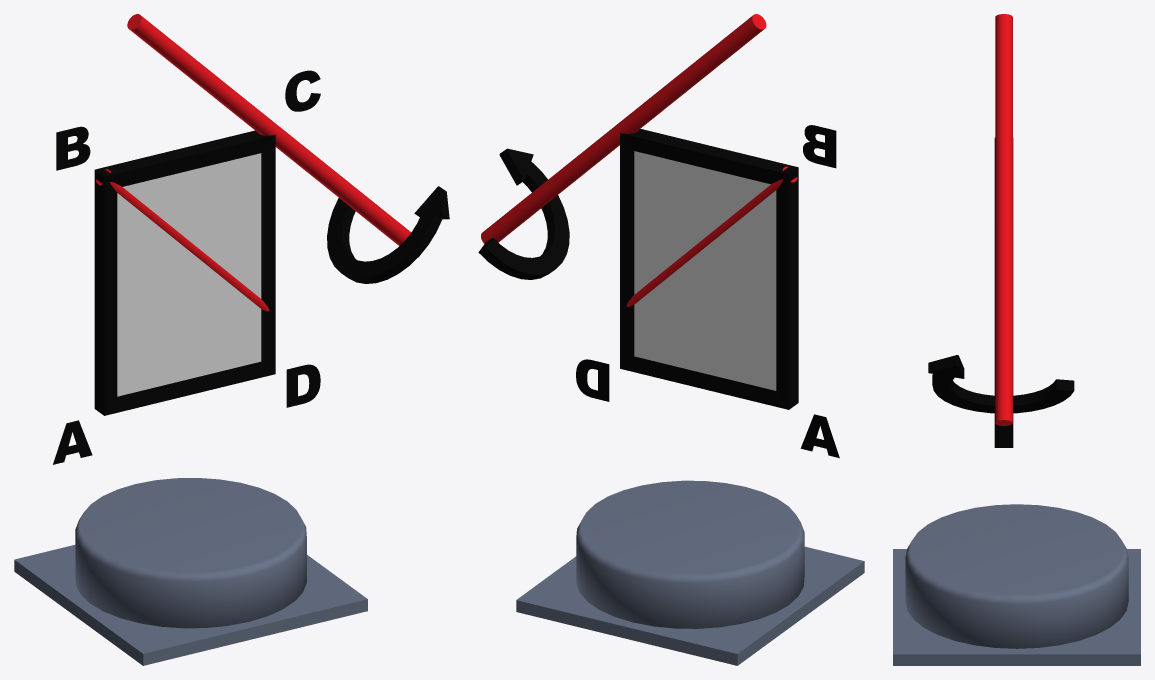
3 renders of one model, left to right at view 1: azimuth 30°, elevation 25°; view 2: azimuth 150°, elevation 25°; view 3: azimuth 270°, elevation 25°, orthographic. The views are drawn at different scales.
Visible parts, largest first — view 1: Cube.001, Cube, Cylinder, Circle, Cylinder.001, Text.001, Text.003, Text.002, Text; view 2: Cube.001, Cube, Cylinder, Circle, Cylinder.001, Text.001, Text.003, Text.002; view 3: Cube, Cylinder, Circle, Cube.001.
Boxes of the visible parts, x1,y1,x2,y2 form: Cube.001: (94,130,275,415); Cube: (14,478,367,665); Cylinder: (127,14,411,245); Circle: (327,186,449,283); Cylinder.001: (96,168,269,311); Text.001: (56,126,90,170); Text.003: (286,364,320,407); Text.002: (53,420,92,464); Text: (285,70,320,111); Cube.001: (620,129,798,409); Cube: (516,480,864,665); Cylinder: (481,14,766,243); Circle: (478,148,569,279); Cylinder.001: (626,166,797,307); Text.001: (803,125,836,168); Text.003: (576,359,609,401); Text.002: (800,414,839,458); Cube: (893,504,1140,665); Cylinder: (995,14,1012,425); Circle: (928,355,1074,413); Cube.001: (994,138,1013,447).
Bounding box in the file's own units: 15.04 × 23.15 × 9.09.
